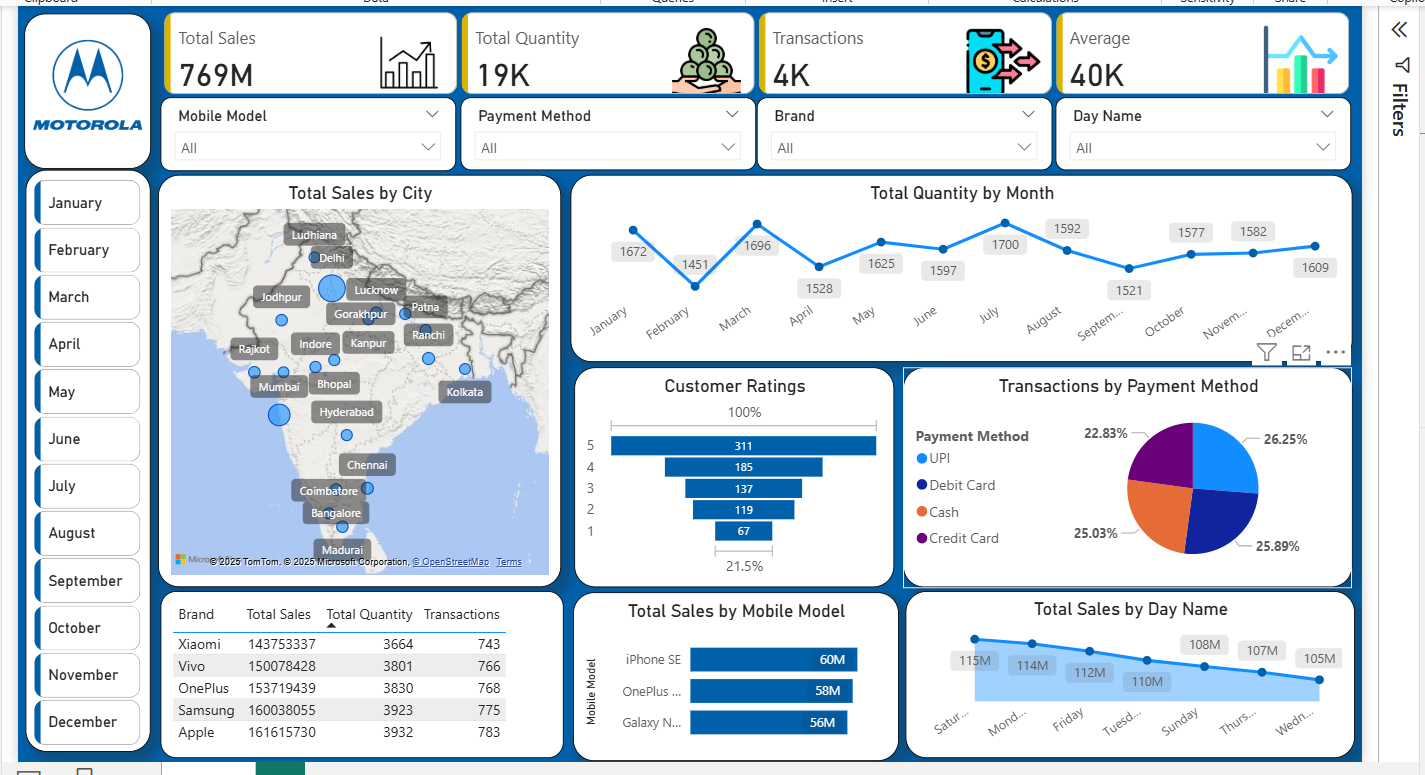

What the dashboard file says about the page in this screenshot:
{"tool":"powerbi","page":{"name":"Page 1","canvas":[1280,720],"ordinal":0},"visuals":[{"type":"shape","box":[5.5,6.9,120.8,148.2],"z":0},{"type":"image","box":[9.6,16.5,113.9,116.6],"z":1000},{"type":"shape","box":[6.9,156.4,119.4,554.4],"z":2000},{"type":"advancedSlicerVisual","fields":{"Values":["Sales_Data.Date.Variation.Date Hierarchy.Month"]},"box":[11,160.5,111.1,548.9],"z":3000},{"type":"cardVisual","fields":{"Data":["Sales_Data.Total Sales","Sales_Data.Total Quantity","Sales_Data.Transactions","Sales_Data.Average"]},"box":[134,5.6,1140.1,83.7],"z":4000},{"type":"map","fields":{"Category":["Sales_Data.City"],"Size":["Sales_Data.Total Sales"]},"box":[132.9,160.8,384.1,393.1],"z":5000},{"type":"lineChart","fields":{"Y":["Sales_Data.Total Quantity"],"Category":["Sales_Data.Date.Variation.Date Hierarchy.Month","Sales_Data.Date.Variation.Date Hierarchy.Day"]},"box":[525.9,160.8,744.8,178.7],"z":6000},{"type":"clusteredBarChart","fields":{"Category":["Sales_Data.Mobile Model"],"Y":["Sales_Data.Total Sales"]},"box":[528.3,558.5,310.1,160.5],"z":7000},{"type":"pieChart","fields":{"Category":["Sales_Data.Payment Method"],"Y":["Sales_Data.Transactions"]},"box":[842.5,344.4,428.1,209.9],"z":8000},{"type":"funnel","title":"Customer Ratings","fields":{"Category":["Sales_Data.Customer Ratings"],"Y":["CountNonNull(Sales_Data.Customer Ratings)"]},"box":[529.7,344.4,304.6,209.9],"z":9000},{"type":"areaChart","fields":{"Category":["Sales_Data.Day Name"],"Y":["Sales_Data.Total Sales"]},"box":[845.3,557.1,428.1,159.2],"z":10000},{"type":"tableEx","fields":{"Values":["Sales_Data.Brand","Sales_Data.Total Sales","Sales_Data.Total Quantity","Sales_Data.Transactions"]},"box":[135.8,557.1,384.2,159.2],"z":11000},{"type":"slicer","fields":{"Values":["Sales_Data.Mobile Model"]},"box":[136.2,87.1,281.4,70.3],"z":12000},{"type":"slicer","fields":{"Values":["Sales_Data.Payment Method"]},"box":[421,87.1,281.4,69.2],"z":13000},{"type":"slicer","fields":{"Values":["Sales_Data.Brand"]},"box":[703.5,87.1,281.4,69.2],"z":14000},{"type":"slicer","fields":{"Values":["Sales_Data.Day Name"]},"box":[988.2,87.1,281.4,69.2],"z":15000}]}

Visuals, with their boxes in screenshot pixels (x1, y1, x2, y2):
shape: box=[17, 4, 145, 161]
image: box=[21, 14, 142, 138]
shape: box=[18, 162, 145, 751]
advancedSlicerVisual - Sales_Data.Date.Variation.Date Hierarchy.Month: box=[23, 167, 141, 750]
cardVisual - Sales_Data.Total Sales x Sales_Data.Total Quantity: box=[153, 2, 1365, 91]
map - Sales_Data.City x Sales_Data.Total Sales: box=[152, 167, 560, 585]
lineChart - Sales_Data.Total Quantity x Sales_Data.Date.Variation.Date Hierarchy.Month: box=[570, 167, 1361, 357]
clusteredBarChart - Sales_Data.Mobile Model x Sales_Data.Total Sales: box=[572, 590, 902, 760]
pieChart - Sales_Data.Payment Method x Sales_Data.Transactions: box=[906, 362, 1361, 585]
"Customer Ratings" funnel: box=[574, 362, 897, 585]
areaChart - Sales_Data.Day Name x Sales_Data.Total Sales: box=[909, 588, 1364, 757]
tableEx - Sales_Data.Brand x Sales_Data.Total Sales: box=[155, 588, 564, 757]
slicer - Sales_Data.Mobile Model: box=[156, 89, 455, 163]
slicer - Sales_Data.Payment Method: box=[458, 89, 757, 162]
slicer - Sales_Data.Brand: box=[758, 89, 1057, 162]
slicer - Sales_Data.Day Name: box=[1061, 89, 1360, 162]
